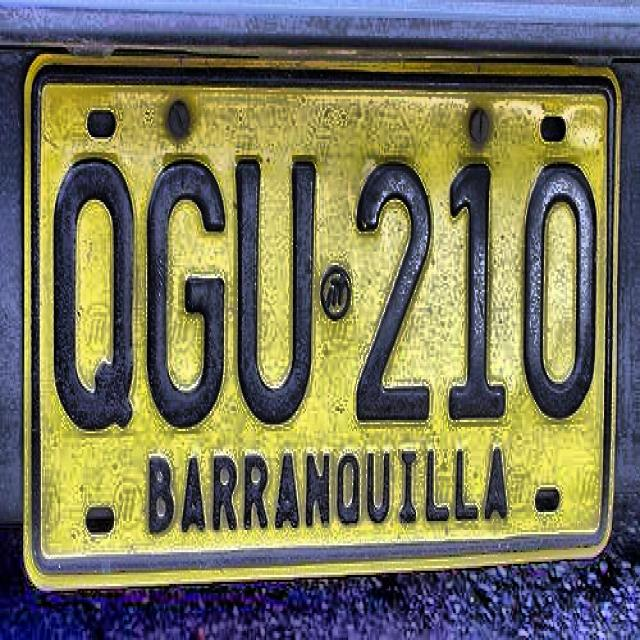plate: (26, 57, 618, 587)
